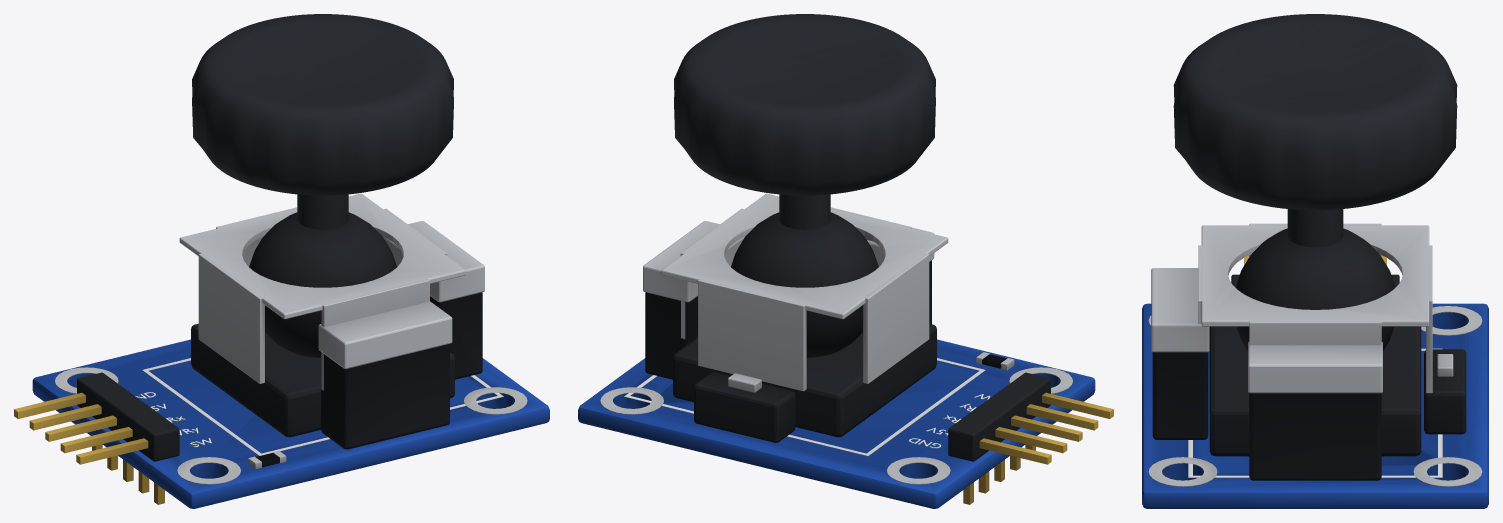
Rendered from ky023-joystick.glb.
3 views of the same model, side by side, from view 1: azimuth 30°, elevation 25°; view 2: azimuth 150°, elevation 25°; view 3: azimuth 270°, elevation 25° (orthographic). The views are drawn at different scales.
Parts seen in each view (by area): view 1: Board, Stick; view 2: Board, Stick; view 3: Board, Stick.
Boxes of the visible parts, <box> form: Board: <box>14,193,549,508</box>; Stick: <box>192,14,453,229</box>; Board: <box>578,193,1113,508</box>; Stick: <box>674,14,935,229</box>; Board: <box>1142,223,1488,508</box>; Stick: <box>1173,14,1457,247</box>.
Size of the model in its own units: 0.04 by 0.0333 by 0.0262.
